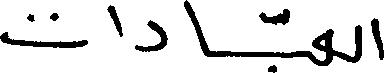X: (0, 8, 84, 52), (186, 0, 210, 61), (138, 15, 166, 56), (312, 24, 331, 70), (374, 13, 383, 64), (110, 0, 121, 41), (355, 20, 361, 67), (306, 46, 310, 64)
